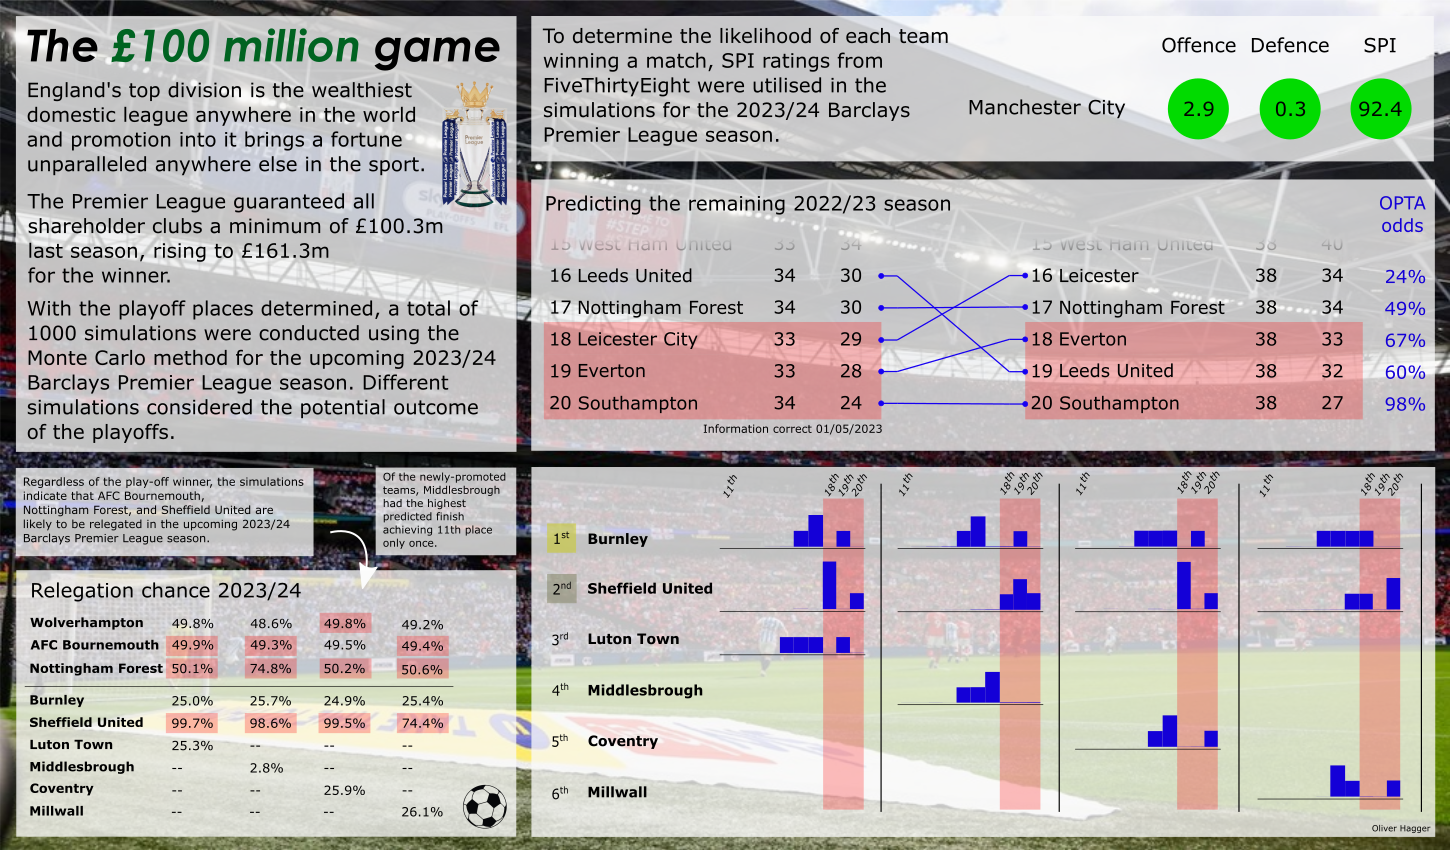

The page's visual inventory and layout, read from the dashboard file:
{"tool":"tableau","page":{"name":"Dashboard 1","canvas":[1450,850],"ordinal":0},"visuals":[{"type":"text","box":[23,8,992,65]},{"type":"text","box":[1225,9,187,75]},{"type":"worksheet","title":"Sheet 3 (2)","mark":"Automatic","box":[1177,24,40,40]},{"type":"text","box":[1225,63,221,75]},{"type":"worksheet","title":"Sheet 4 (2)","mark":"Automatic","box":[1177,83,40,40]},{"type":"image","param":"Image/Olympic_rings_without_rims.svg","box":[44,98,172,90]},{"type":"text","box":[768,113,100,30]},{"type":"text","box":[335,219,140,30]},{"type":"text","box":[23,231,305,152]},{"type":"text","box":[530,338,140,30]},{"type":"text","box":[21,361,305,104]},{"type":"text","box":[1089,371,140,30]},{"type":"text","box":[1146,480,140,30]},{"type":"text","box":[104,497,40,28]},{"type":"text","box":[378,567,305,104]},{"type":"text","box":[652,598,140,30]},{"type":"text","box":[104,602,40,40]},{"type":"text","box":[1082,636,127,72]},{"type":"text","box":[190,639,40,40]},{"type":"text","box":[709,676,108,58]},{"type":"text","box":[278,683,40,40]},{"type":"worksheet","title":"Sheet 4","mark":"Automatic","box":[659,686,40,40]},{"type":"text","box":[190,703,40,40]},{"type":"worksheet","title":"Sheet 8","mark":"Automatic","rows":["Country (Host cities for Summer and Wint) (copy)_28009575111"],"cols":["Year"],"box":[933,711,362,126]},{"type":"text","box":[104,727,40,40]},{"type":"text","box":[709,727,108,58]},{"type":"text","box":[366,732,40,40]},{"type":"text","box":[278,737,40,40]},{"type":"worksheet","title":"Sheet 3","mark":"Automatic","box":[659,738,40,40]},{"type":"text","box":[453,755,40,40]},{"type":"text","box":[190,765,40,40]},{"type":"text","box":[539,765,40,40]},{"type":"text","box":[278,775,40,40]}]}

Visuals, with their boxes in screenshot pixels (x1, y1, x2, y2), scaled from the page's 1450x850 canvas onto the 1450x850 screenshot:
text: 23, 8, 1015, 73
text: 1225, 9, 1412, 84
"Sheet 3 (2)" worksheet: 1177, 24, 1217, 64
text: 1225, 63, 1446, 138
"Sheet 4 (2)" worksheet: 1177, 83, 1217, 123
image: 44, 98, 216, 188
text: 768, 113, 868, 143
text: 335, 219, 475, 249
text: 23, 231, 328, 383
text: 530, 338, 670, 368
text: 21, 361, 326, 465
text: 1089, 371, 1229, 401
text: 1146, 480, 1286, 510
text: 104, 497, 144, 525
text: 378, 567, 683, 671
text: 652, 598, 792, 628
text: 104, 602, 144, 642
text: 1082, 636, 1209, 708
text: 190, 639, 230, 679
text: 709, 676, 817, 734
text: 278, 683, 318, 723
"Sheet 4" worksheet: 659, 686, 699, 726
text: 190, 703, 230, 743
"Sheet 8" worksheet: 933, 711, 1295, 837
text: 104, 727, 144, 767
text: 709, 727, 817, 785
text: 366, 732, 406, 772
text: 278, 737, 318, 777
"Sheet 3" worksheet: 659, 738, 699, 778
text: 453, 755, 493, 795
text: 190, 765, 230, 805
text: 539, 765, 579, 805
text: 278, 775, 318, 815
